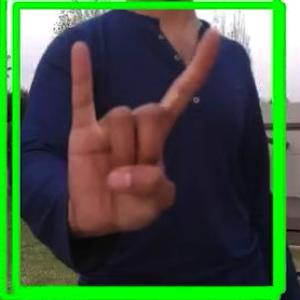takeoff-hand: (54, 13, 227, 252)
